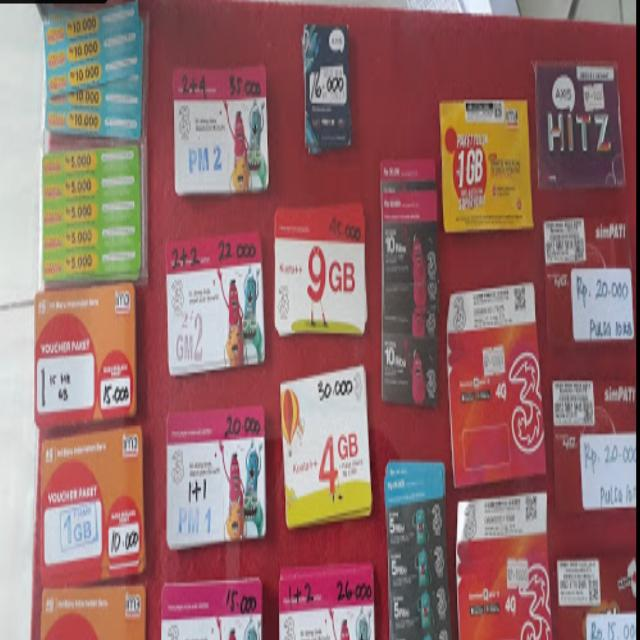HITZ: (541, 68, 621, 187)
Indosat-3: (445, 286, 546, 482), (278, 359, 372, 526), (379, 152, 438, 400), (164, 402, 264, 542), (163, 232, 263, 370), (273, 205, 369, 342), (460, 499, 549, 640), (174, 68, 270, 194), (386, 456, 449, 634), (278, 562, 374, 640), (304, 12, 351, 146), (162, 580, 260, 640)
SimpaTI: (546, 215, 636, 358), (553, 499, 637, 640), (550, 364, 636, 498)
im3: (36, 434, 146, 640), (41, 3, 148, 147), (439, 94, 532, 235), (39, 152, 142, 273), (34, 291, 134, 413)
